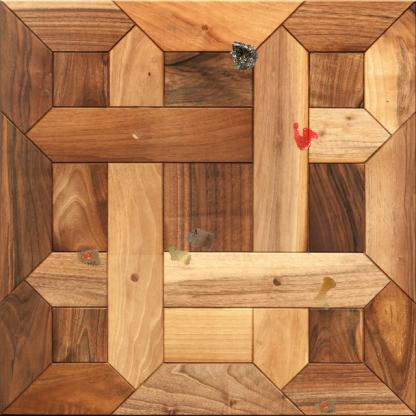dirty: (228, 40, 259, 72), (184, 227, 215, 251), (166, 241, 192, 267), (74, 247, 102, 268), (314, 396, 340, 416)
liquid: (312, 276, 338, 312), (292, 122, 320, 152)
